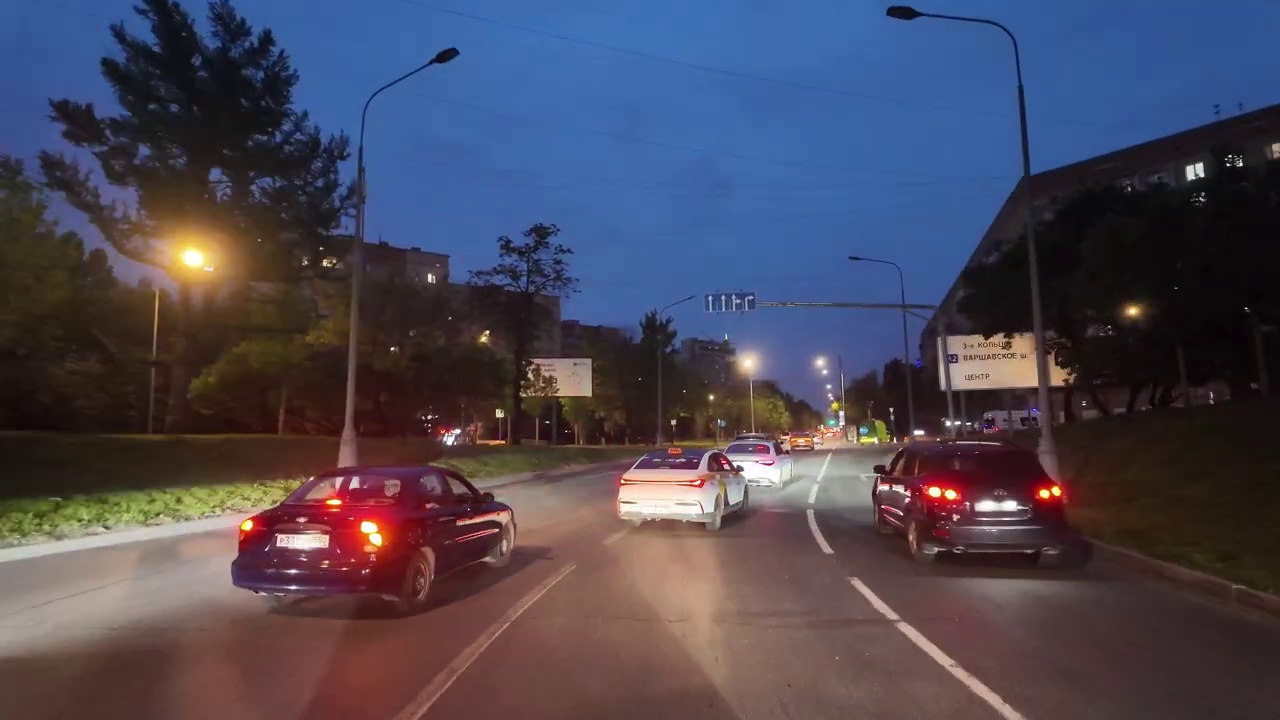acesa: (167, 234, 223, 284), (733, 350, 760, 377), (811, 353, 831, 377)
apagada: (425, 42, 462, 74), (885, 6, 931, 28)
